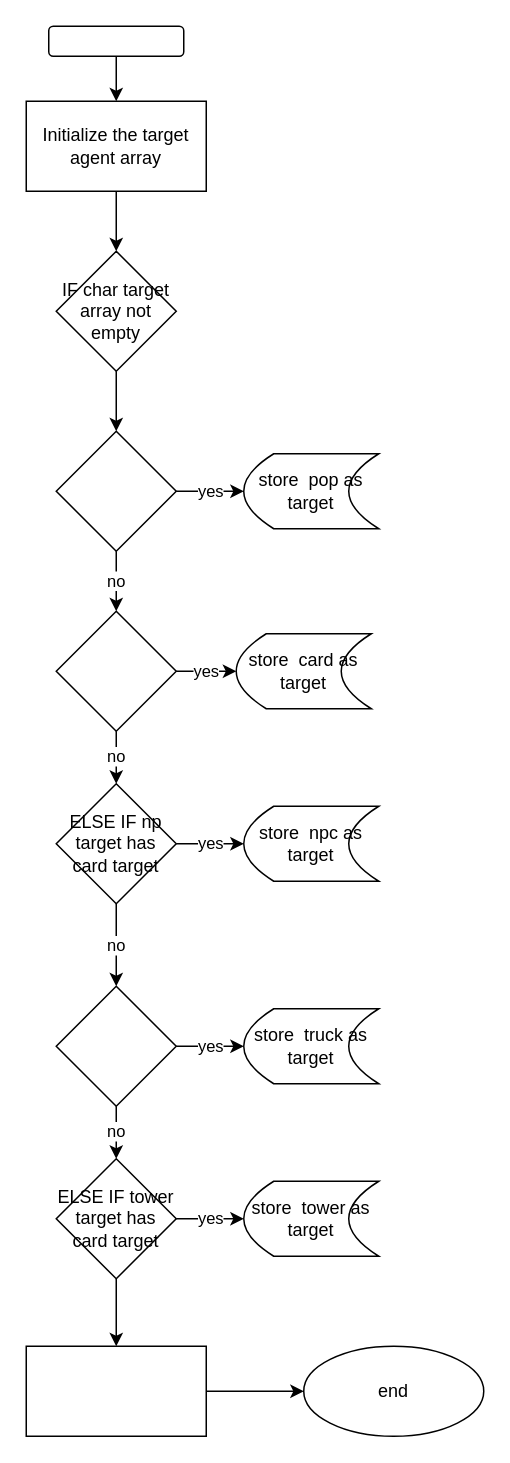
Image size: 510x1463. Some labels were removed from this diagram. Each missing label, with the centre of its shape:
"ELSE IF char target has card target" goes at [115,670].
"ELSE IF truck target has card target" goes at [115,1045].
"IF char target has pop target" goes at [115,490].
"return target" goes at [115,1390].
"start" goes at [115,40].
